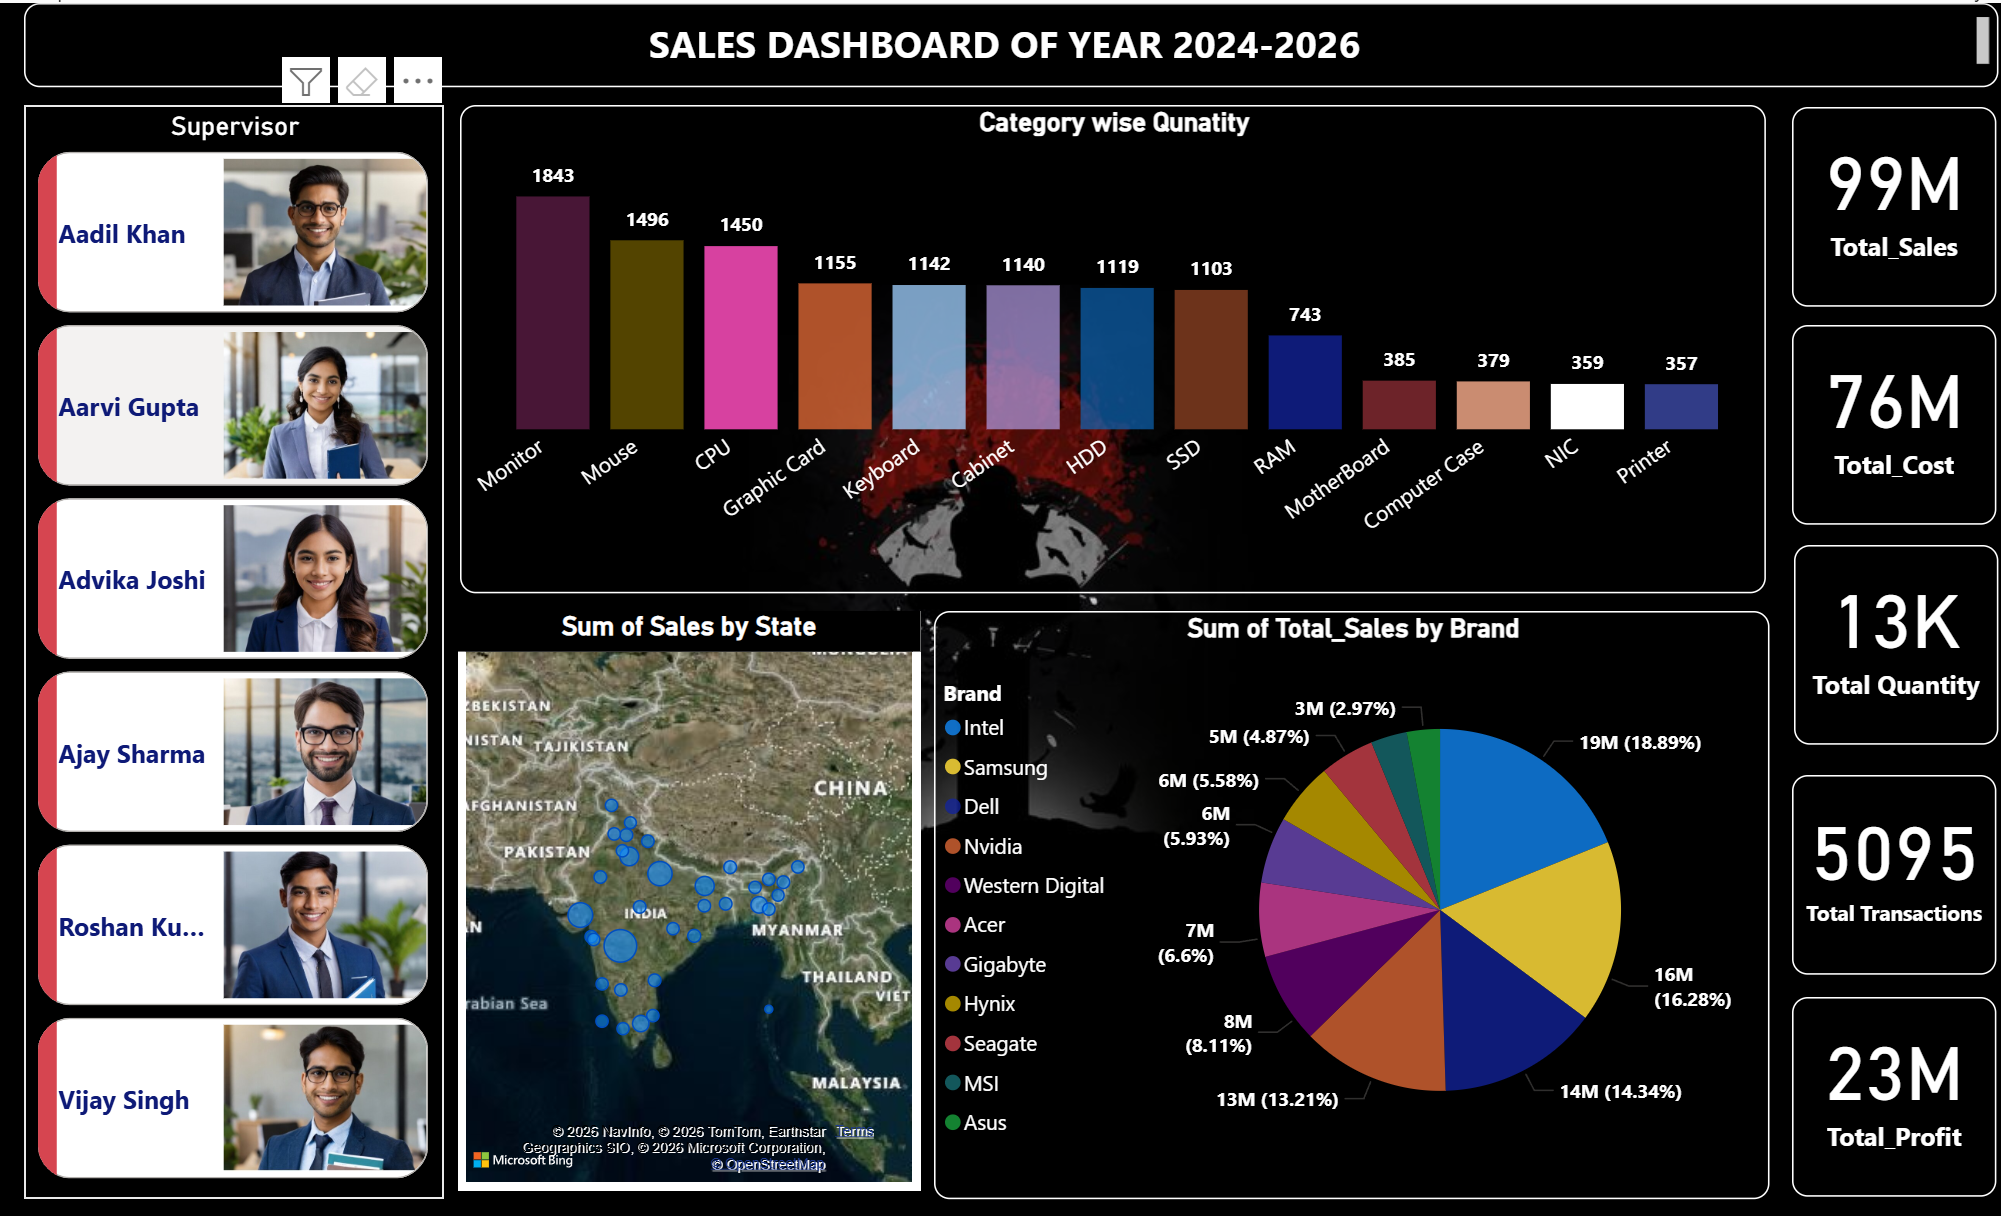

Layout of this report page (visuals, bound fields, positions):
{"tool":"powerbi","page":{"name":"Page 1","canvas":[1287,780],"ordinal":0},"visuals":[{"type":"textbox","box":[15.4,0,1265.4,53.9],"z":0},{"type":"card","fields":{"Values":["Sum(Sales_Data.Total_Sales)"]},"box":[1148.4,66.2,130.9,127.8],"z":1000},{"type":"card","fields":{"Values":["Sum(Sales_Data.Total_Cost)"]},"box":[1148.4,206.3,130.9,127.8],"z":2000},{"type":"clusteredColumnChart","title":"Category wise Qunatity","fields":{"Y":["Sum(Sales_Data.Quantity)"],"Category":["Sales_Data.Category"]},"box":[294.3,65.7,837.1,312.9],"z":3000},{"type":"card","fields":{"Values":["CountNonNull(Sales_Data.Order_Date)"]},"box":[1148.4,494.2,130.9,127.8],"z":4000},{"type":"card","fields":{"Values":["Sales_Data.Total_Profit"]},"box":[1148.4,637.3,130.9,127.8],"z":5000},{"type":"card","fields":{"Values":["Sum(Sales_Data.Quantity)"]},"box":[1150,347.9,130.9,127.8],"z":6000},{"type":"pieChart","fields":{"Y":["Sum(Sales_Data.Total_Sales)"],"Category":["Sales_Data.Brand"]},"box":[598.6,390,535.7,377.1],"z":7000},{"type":"map","fields":{"Category":["State_list.State"],"Size":["Sum(Sales_Data.Sales)"]},"box":[293.8,390,296.2,371.2],"z":8000},{"type":"advancedSlicerVisual","fields":{"Values":["Supervisor.Supervisor"]},"box":[15.7,65.7,268.6,701.4],"z":8001}]}

Visuals, with their boxes in screenshot pixels (x1, y1, x2, y2), scaled from the page's 1287x780 canvas onto the 2001x1216 screenshot:
textbox: detection(24, 0, 1991, 84)
card - Sum(Sales_Data.Total_Sales): detection(1786, 103, 1989, 302)
card - Sum(Sales_Data.Total_Cost): detection(1786, 322, 1989, 521)
"Category wise Qunatity" clusteredColumnChart: detection(458, 102, 1759, 590)
card - CountNonNull(Sales_Data.Order_Date): detection(1786, 770, 1989, 970)
card - Sales_Data.Total_Profit: detection(1786, 994, 1989, 1193)
card - Sum(Sales_Data.Quantity): detection(1788, 542, 1992, 742)
pieChart - Sum(Sales_Data.Total_Sales) x Sales_Data.Brand: detection(931, 608, 1764, 1196)
map - State_list.State x Sum(Sales_Data.Sales): detection(457, 608, 917, 1187)
advancedSlicerVisual - Supervisor.Supervisor: detection(24, 102, 442, 1196)
